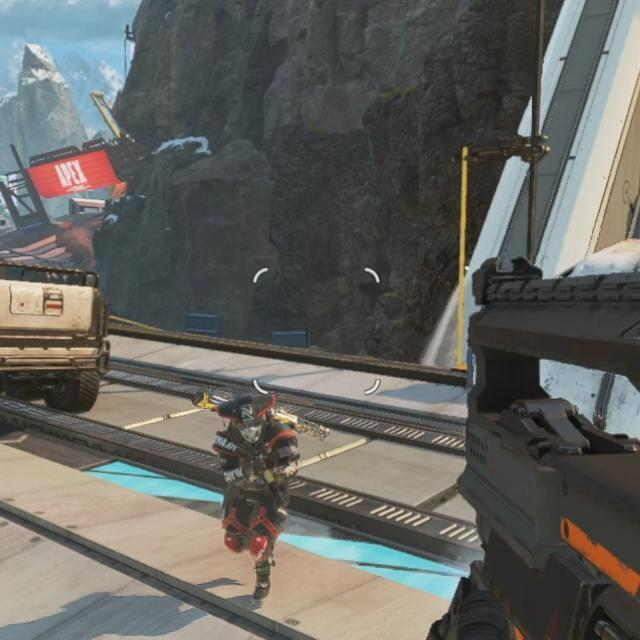avatar: (208, 390, 301, 603)
